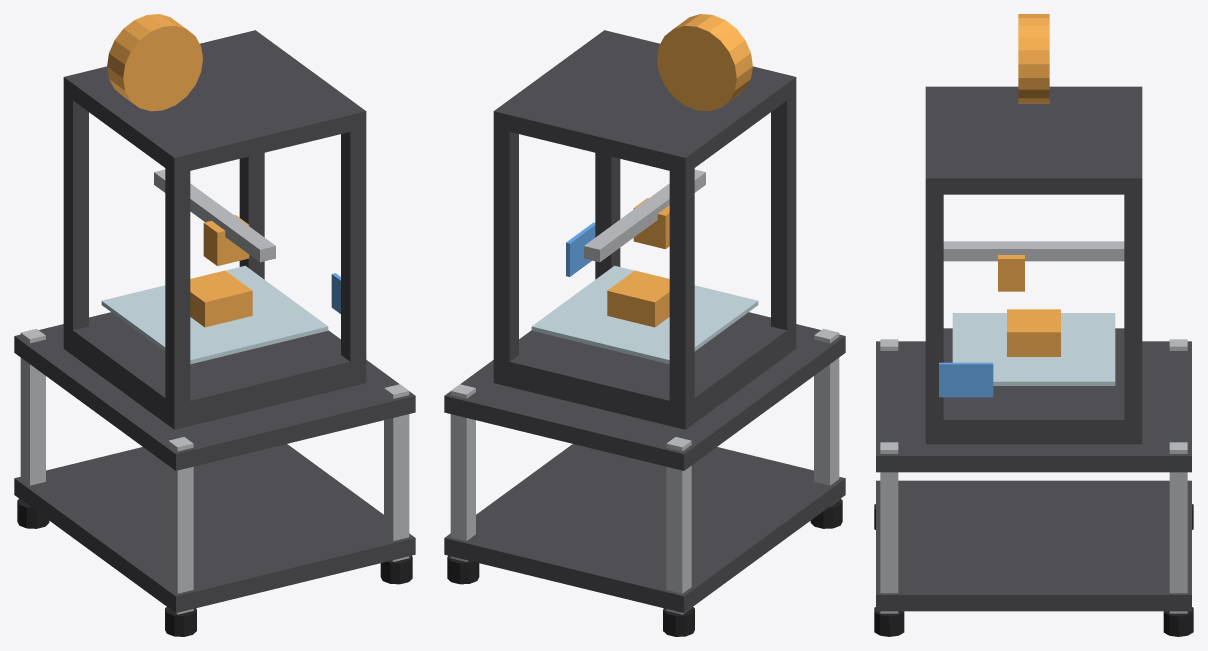
File: SM_Prop_Printer3D.glb
3 views of the same model, side by side, from view 1: azimuth 30°, elevation 25°; view 2: azimuth 150°, elevation 25°; view 3: azimuth 270°, elevation 25° (orthographic). The views are drawn at different scales.
Parts seen in each view (by area): view 1: SM_Prop_Printer3D; view 2: SM_Prop_Printer3D; view 3: SM_Prop_Printer3D.
Part boxes in pixels (<box>): SM_Prop_Printer3D: <box>14,14,415,636</box>; SM_Prop_Printer3D: <box>444,14,845,636</box>; SM_Prop_Printer3D: <box>874,14,1193,636</box>.
Bounding box in the file's own units: 0.61 × 1.3 × 0.7066.
